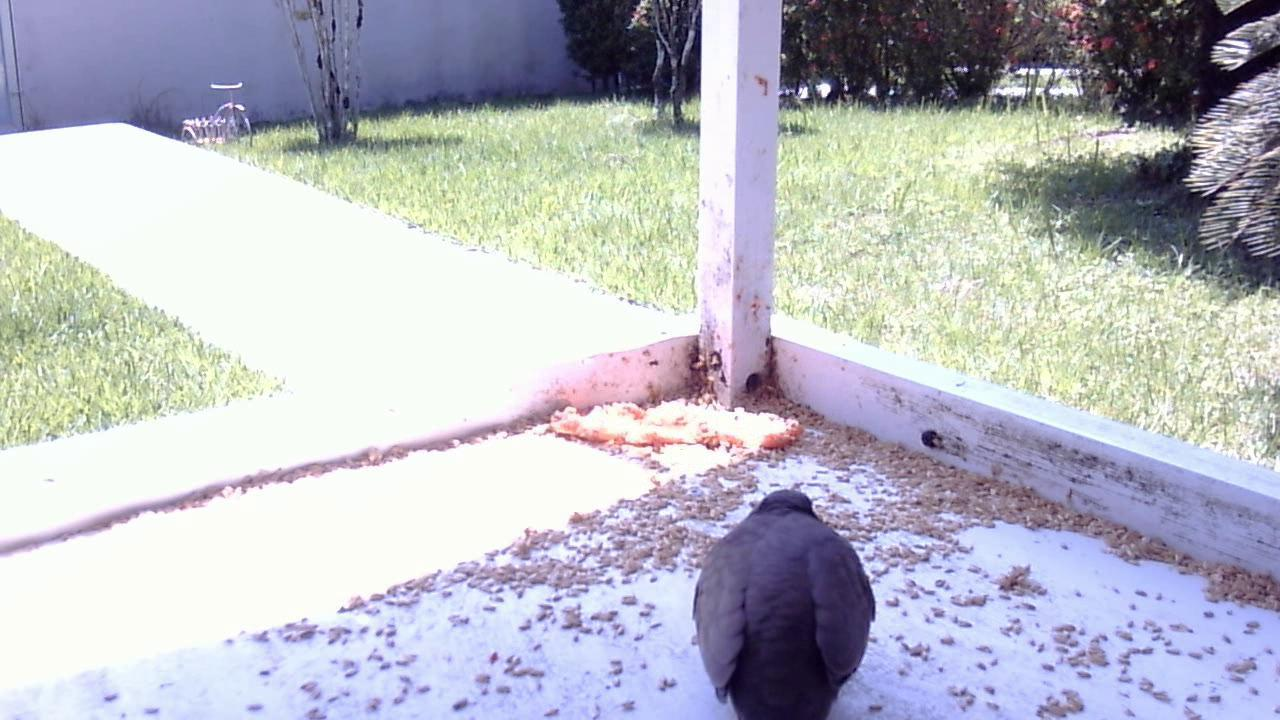rolinha: (682, 482, 882, 710)
